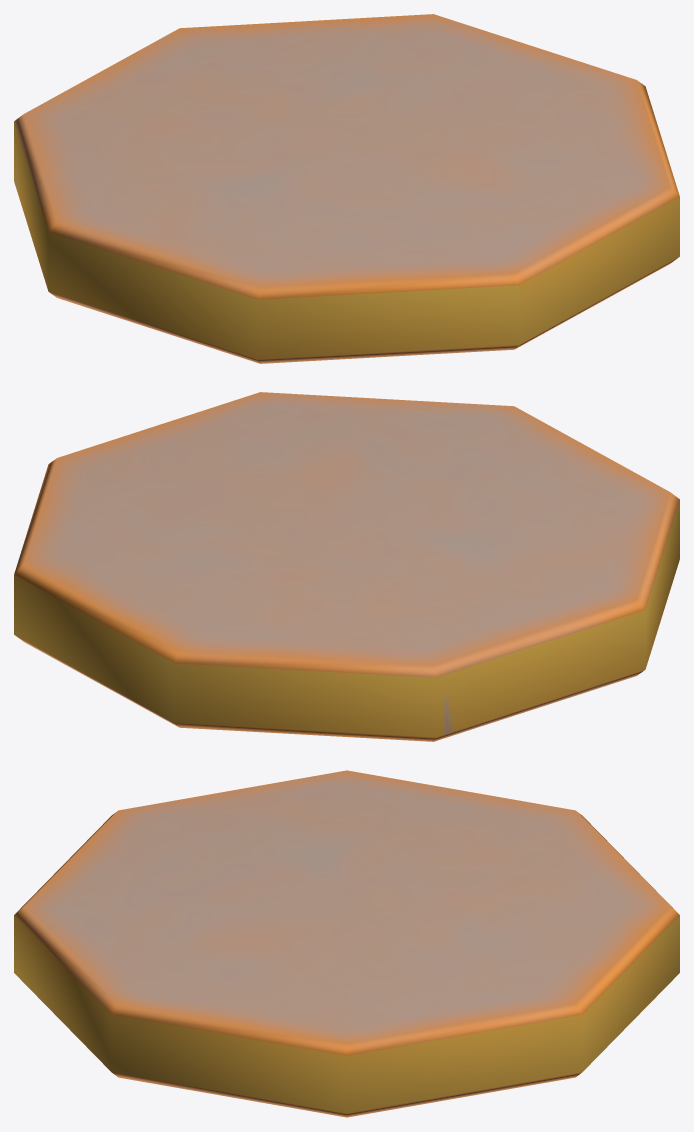
File: Coin.002.fbx
The picture shows the model from 3 angles, top to bottom: view 1: azimuth 30°, elevation 25°; view 2: azimuth 150°, elevation 25°; view 3: azimuth 270°, elevation 25°; orthographic projection. The views are drawn at different scales.
Parts seen in each view (by area): view 1: Coin.002; view 2: Coin.002; view 3: Coin.002.
Boxes of the visible parts, x1=… form: Coin.002: x1=14, y1=14, x2=679, y2=363; Coin.002: x1=14, y1=392, x2=679, y2=741; Coin.002: x1=14, y1=770, x2=679, y2=1117.
Size of the model in its own units: 108 by 13.18 by 108.
